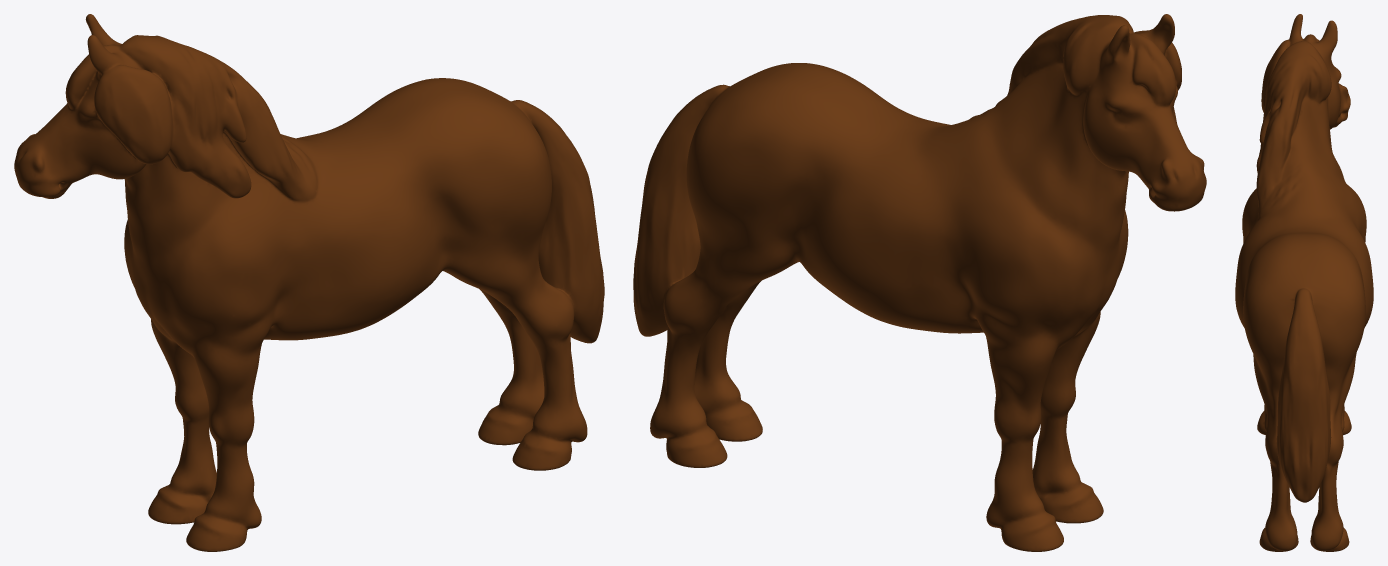
The model's file is CobModel.glb.
3 views of the same model, side by side, from view 1: azimuth 30°, elevation 25°; view 2: azimuth 150°, elevation 25°; view 3: azimuth 270°, elevation 25° (orthographic). The views are drawn at different scales.
Visible parts, largest first — view 1: Horse; view 2: Horse; view 3: Horse.
Boxes of the visible parts, x1=… form: Horse: x1=14, y1=14, x2=604, y2=551; Horse: x1=633, y1=14, x2=1206, y2=551; Horse: x1=1235, y1=14, x2=1373, y2=551.
Size of the model in its own units: 2.58 by 2.29 by 0.7623.
